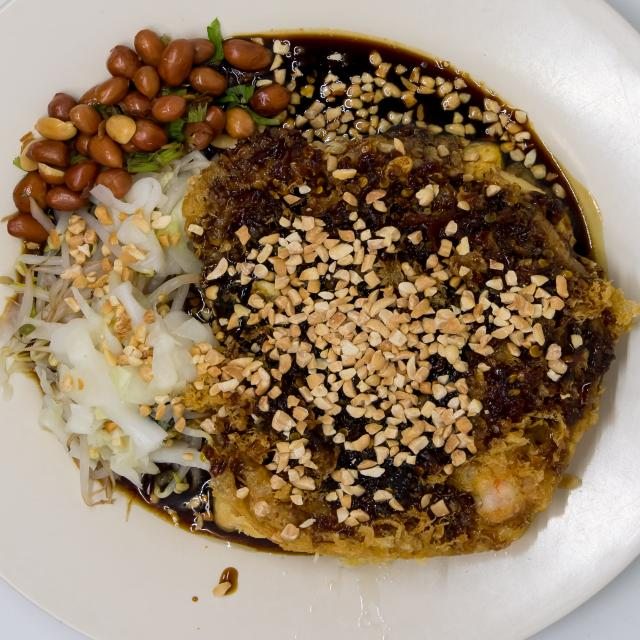Tahu-Telur: (15, 16, 623, 585)
